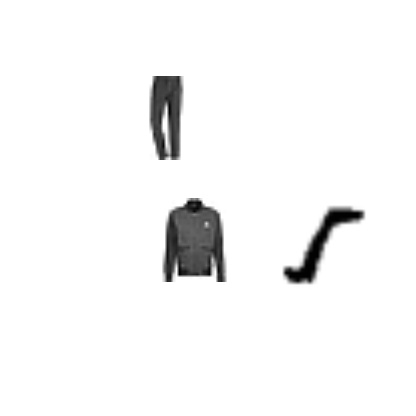5: (264, 187, 376, 299)
Coat: (151, 198, 235, 282)
Trouser: (123, 76, 207, 160)
